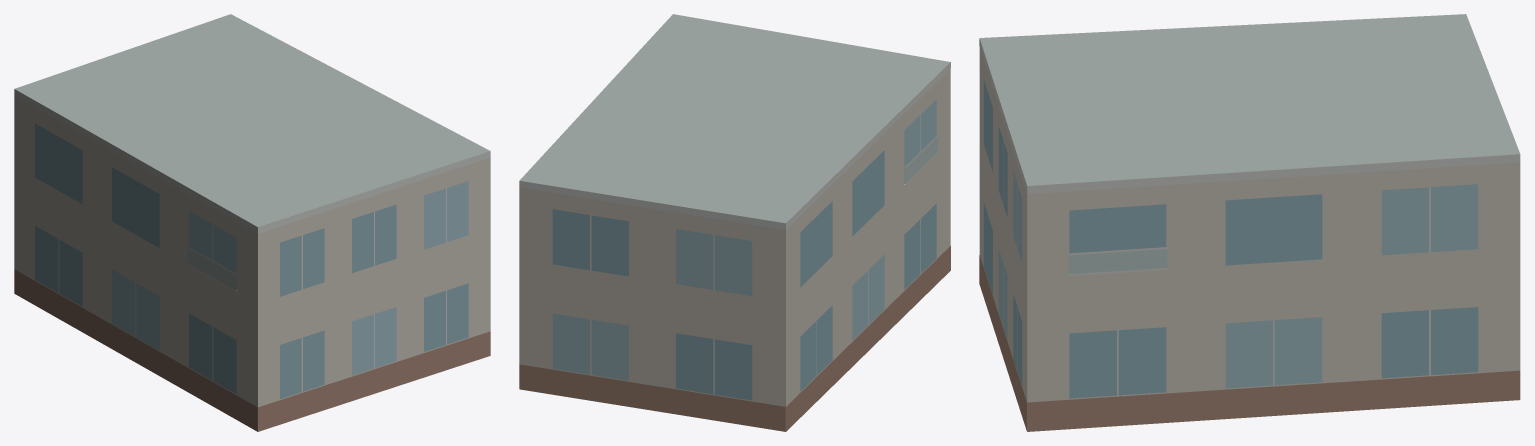
The model's file is survey-upis-32913519.glb.
3 renders of one model, left to right at view 1: azimuth 30°, elevation 25°; view 2: azimuth 150°, elevation 25°; view 3: azimuth 270°, elevation 25°, orthographic. The views are drawn at different scales.
Parts seen in each view (by area): view 1: survey-upis-32913519.tmp; view 2: survey-upis-32913519.tmp; view 3: survey-upis-32913519.tmp.
Part boxes in pixels (bbox=[...]): survey-upis-32913519.tmp: bbox=[14, 14, 490, 431]; survey-upis-32913519.tmp: bbox=[519, 14, 950, 431]; survey-upis-32913519.tmp: bbox=[979, 14, 1520, 431].
Bounding box in the file's own units: 11.27 × 7.5 × 14.97.
